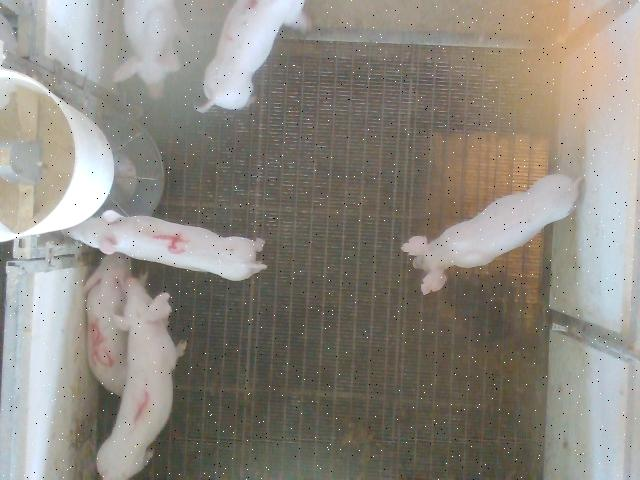pig-1: (98, 278, 185, 480)
pig-3: (195, 1, 302, 112)
pig-4: (66, 211, 266, 280)
pig-5: (84, 253, 131, 395)
